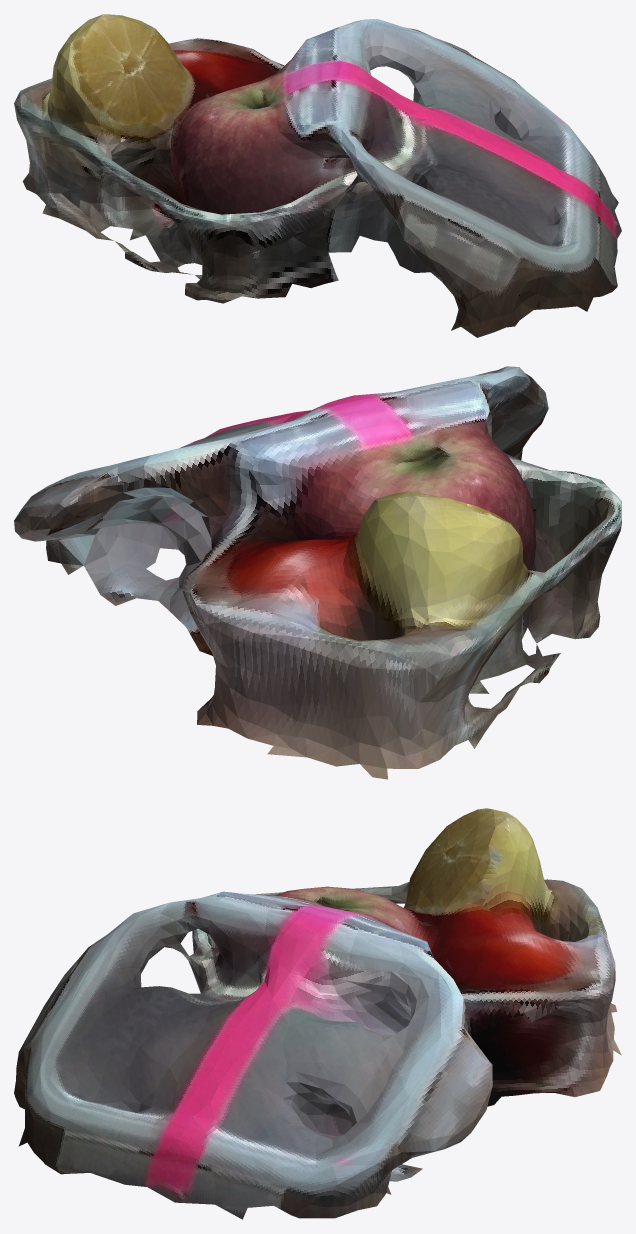
File: self-supply-box.glb
The picture shows the model from 3 angles, top to bottom: view 1: azimuth 30°, elevation 25°; view 2: azimuth 150°, elevation 25°; view 3: azimuth 270°, elevation 25°; orthographic projection. The views are drawn at different scales.
Parts seen in each view (by area): view 1: Mesh_0.010; view 2: Mesh_0.010; view 3: Mesh_0.010.
Part boxes in pixels (bbox=[...]): Mesh_0.010: bbox=[14, 14, 621, 337]; Mesh_0.010: bbox=[14, 366, 621, 779]; Mesh_0.010: bbox=[14, 808, 621, 1219].
Size of the model in its own units: 0.2194 by 0.0867 by 0.2366.
Materials: 1 (1 with a texture image).
